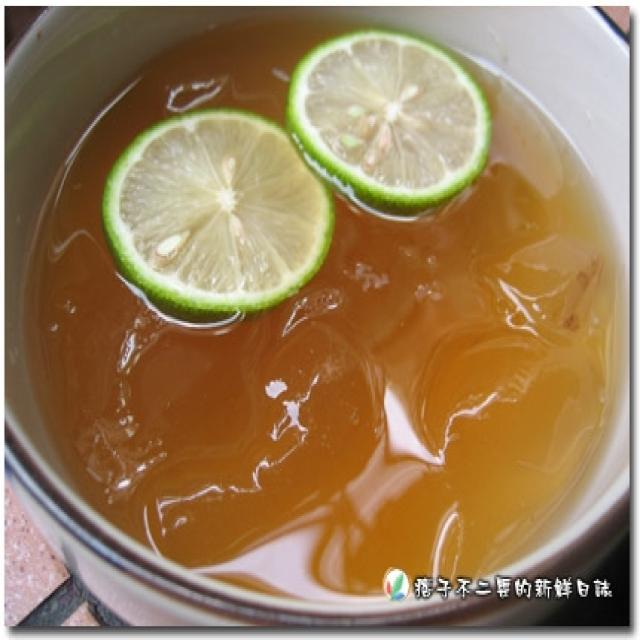蛋糕甜品: (36, 26, 612, 588)
